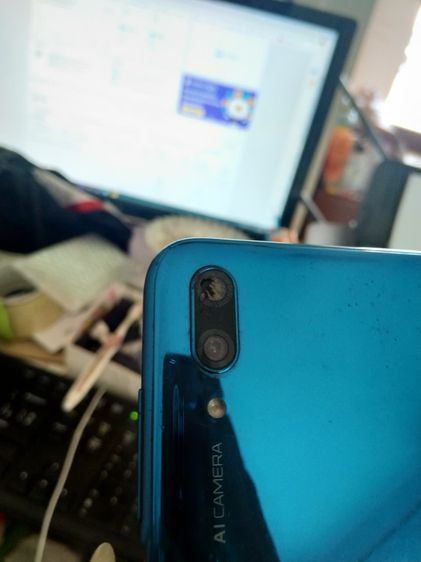Phone: (134, 235, 421, 562)
